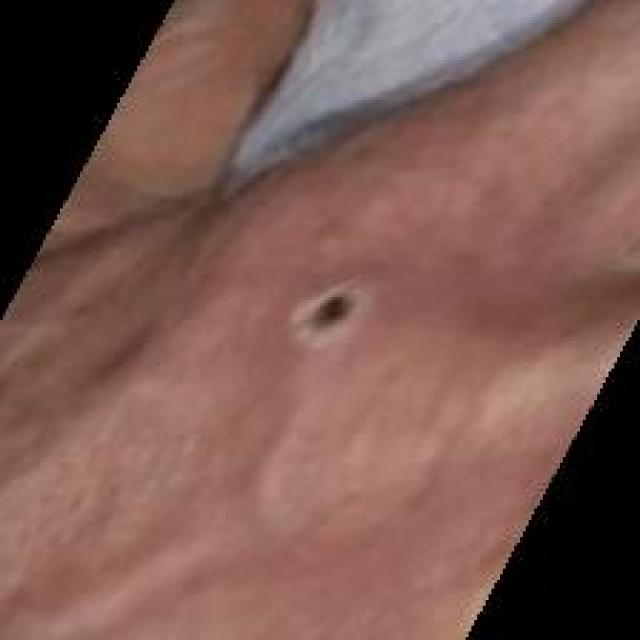monkeypox: (200, 185, 449, 576)
